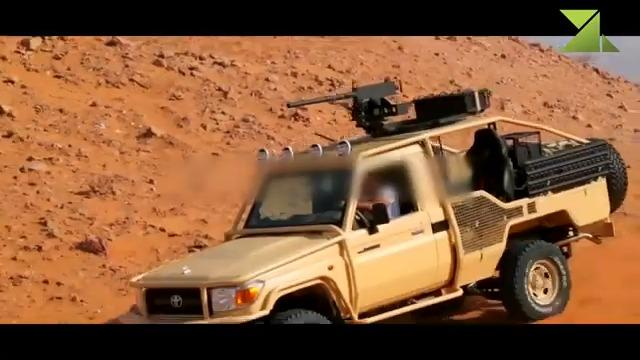MIL_HMMWV: (129, 116, 627, 324)
